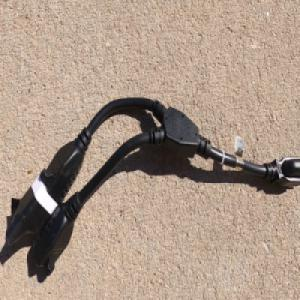Wire: (4, 95, 300, 278)
